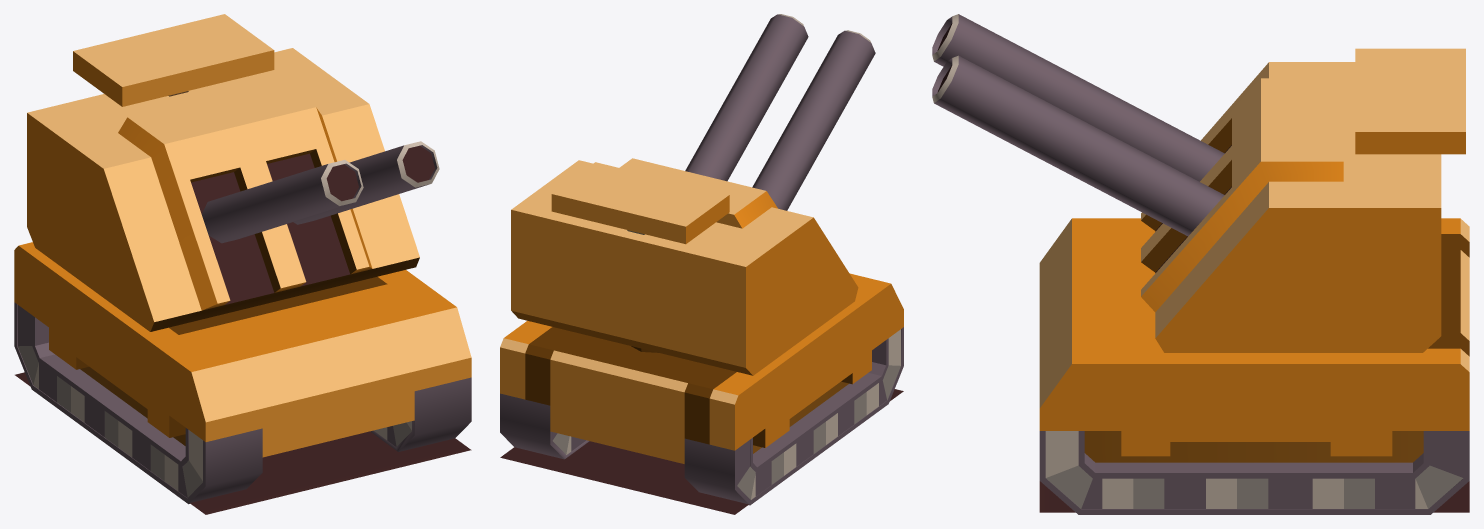
Rendered from AntiAirMesh.AmberBlaze.glb.
3 renders of one model, left to right at view 1: azimuth 30°, elevation 25°; view 2: azimuth 150°, elevation 25°; view 3: azimuth 270°, elevation 25°, orthographic. The views are drawn at different scales.
Visible parts, largest first — view 1: AntiAirMesh.AmberBlaze; view 2: AntiAirMesh.AmberBlaze; view 3: AntiAirMesh.AmberBlaze.
Boxes of the visible parts, x1=… form: AntiAirMesh.AmberBlaze: x1=14, y1=14, x2=471, y2=514; AntiAirMesh.AmberBlaze: x1=500, y1=14, x2=903, y2=514; AntiAirMesh.AmberBlaze: x1=932, y1=14, x2=1469, y2=514.
Bounding box in the file's own units: 1.4 × 1.8 × 2.18.
Materials: 1 (1 with a texture image).
